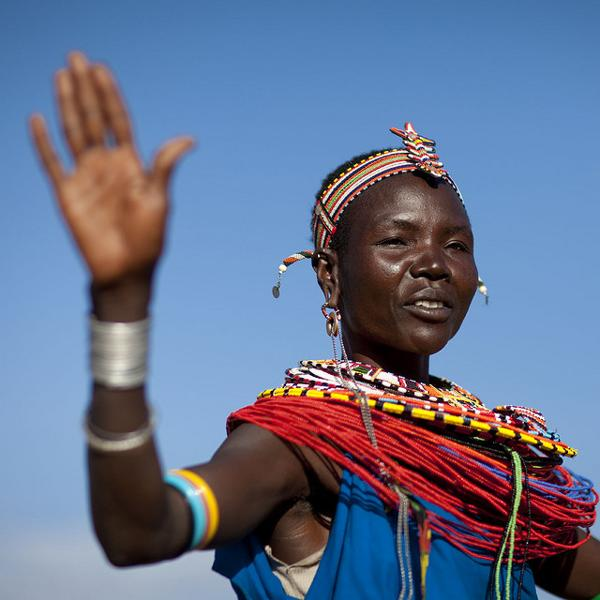person: (26, 49, 600, 600)
